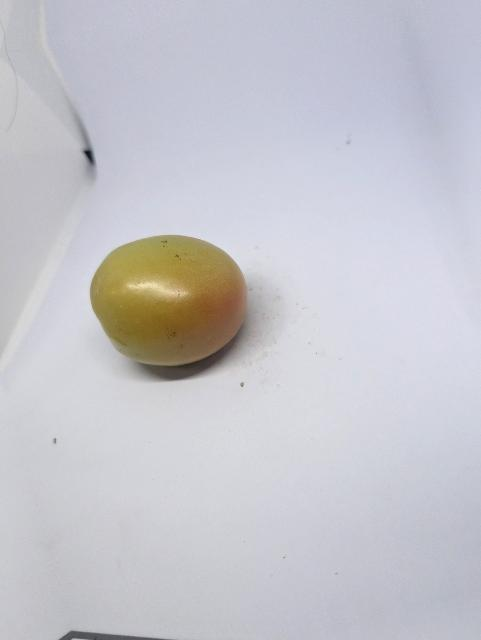breaker: (86, 234, 251, 369)
